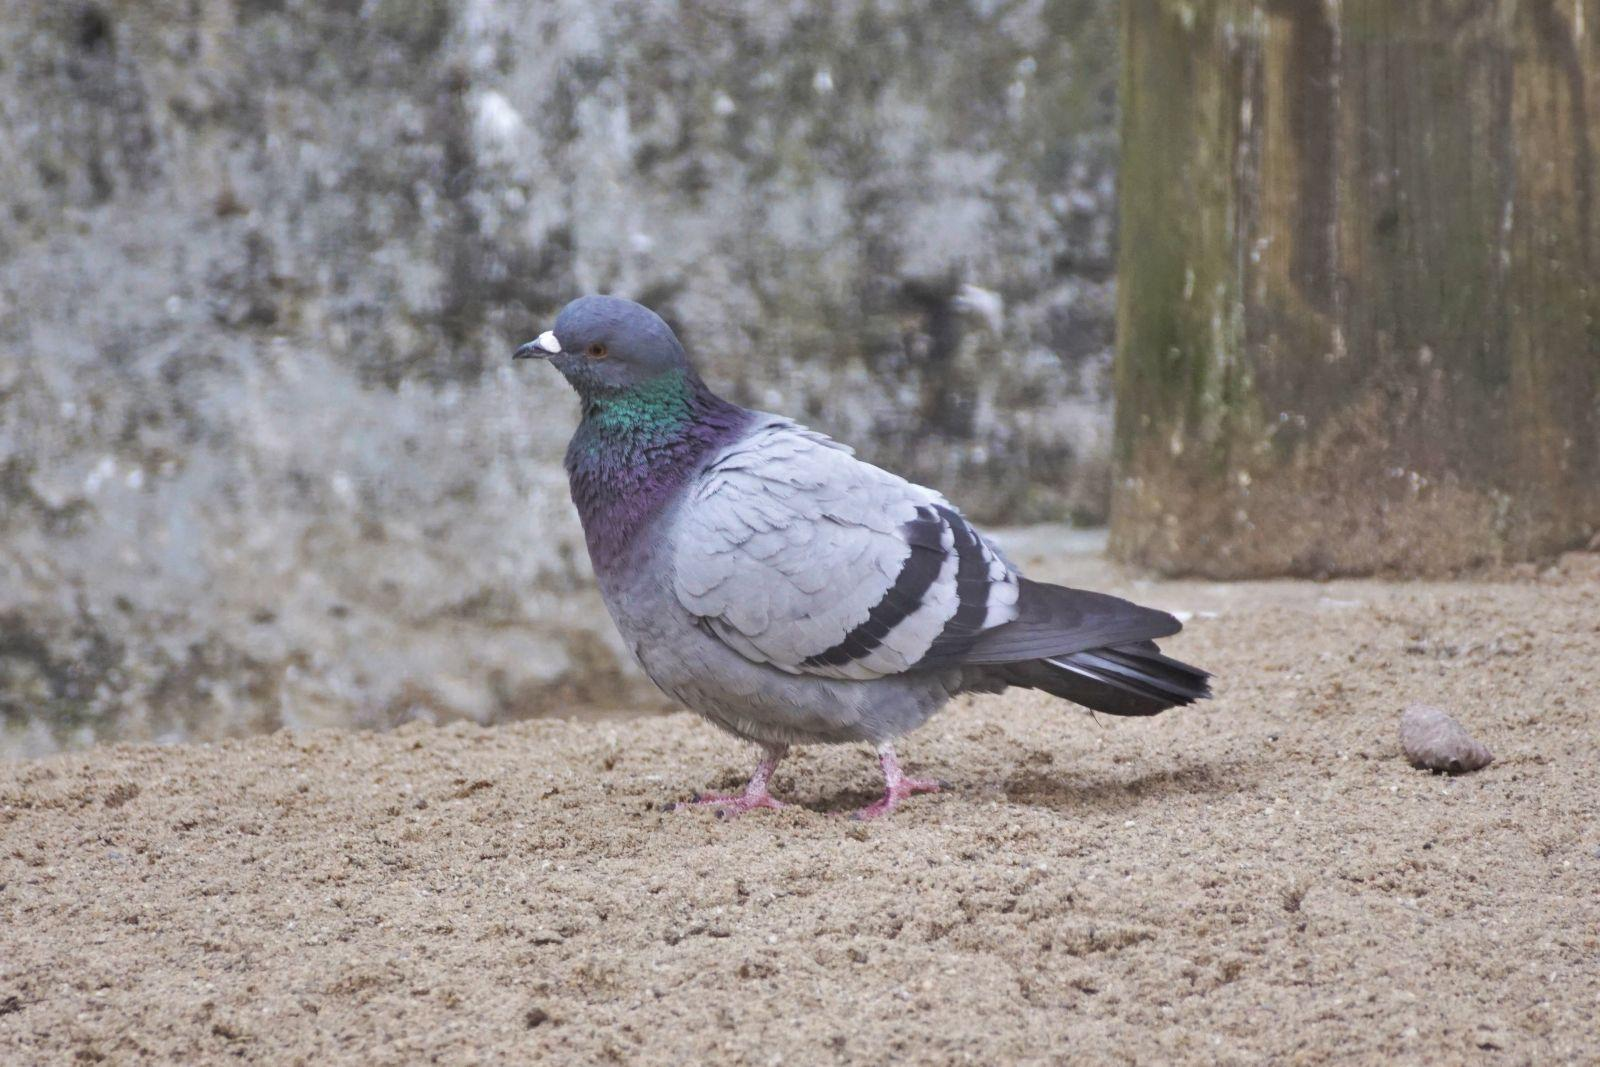Flying Rat: (525, 301, 1180, 792)
